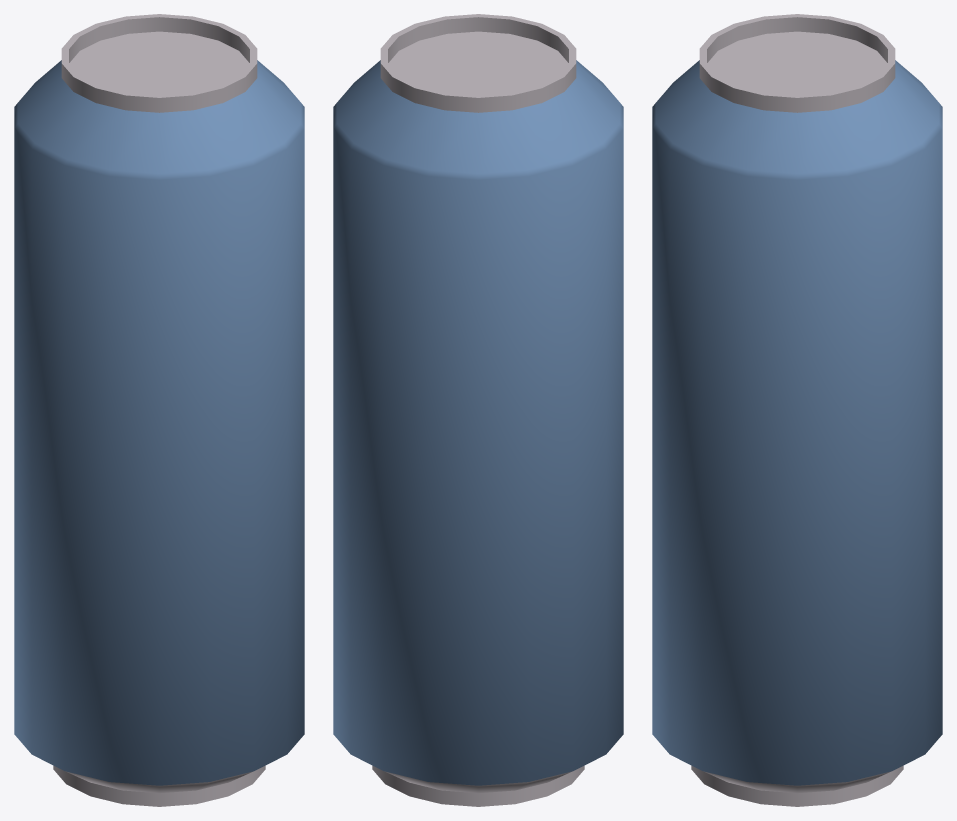
File: P_canette_2.fbx
The picture shows the model from 3 angles, left to right: view 1: azimuth 30°, elevation 25°; view 2: azimuth 150°, elevation 25°; view 3: azimuth 270°, elevation 25°; orthographic projection.
Visible parts, largest first — view 1: Cylinder002; view 2: Cylinder002; view 3: Cylinder002.
Boxes of the visible parts, x1,y1,x2,y2 form: Cylinder002: (14,14,304,806); Cylinder002: (333,14,623,806); Cylinder002: (652,14,942,806).
Size of the model in its own units: 2.3 by 6.08 by 2.27.
